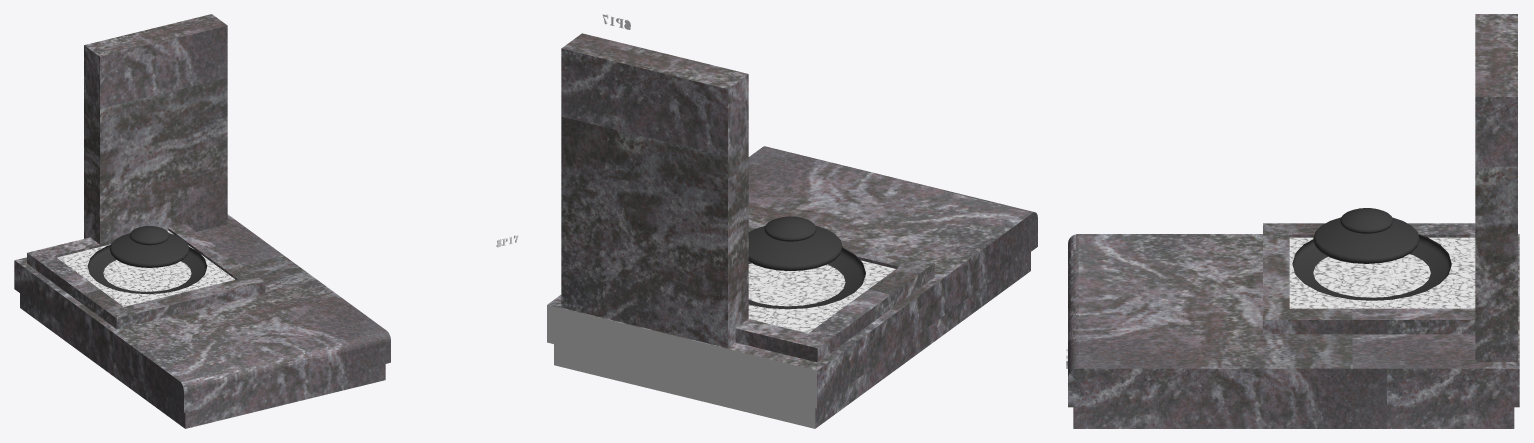
Rendered from Stone_1.fbx.
The picture shows the model from 3 angles, left to right: view 1: azimuth 30°, elevation 25°; view 2: azimuth 150°, elevation 25°; view 3: azimuth 270°, elevation 25°; orthographic projection. The views are drawn at different scales.
Visible parts, largest first — view 1: Model, Group1; view 2: Model, Group1; view 3: Model, Group1.
Part boxes in pixels (x1=…): Model: x1=14, y1=14, x2=390, y2=428; Group1: x1=87, y1=245, x2=207, y2=294; Model: x1=547, y1=33, x2=1037, y2=428; Group1: x1=748, y1=248, x2=865, y2=309; Model: x1=1068, y1=14, x2=1519, y2=428; Group1: x1=1292, y1=234, x2=1451, y2=300.
Bounding box in the file's own units: 967 × 680 × 853.
